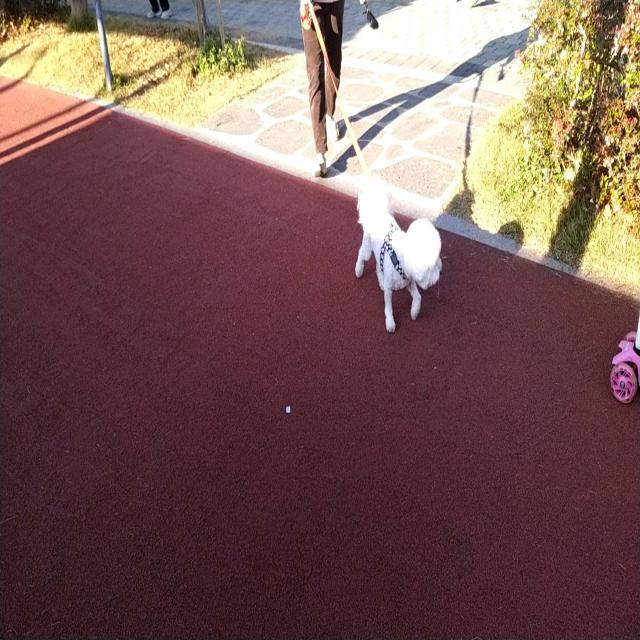Leashed_Dog: (300, 1, 443, 333)
